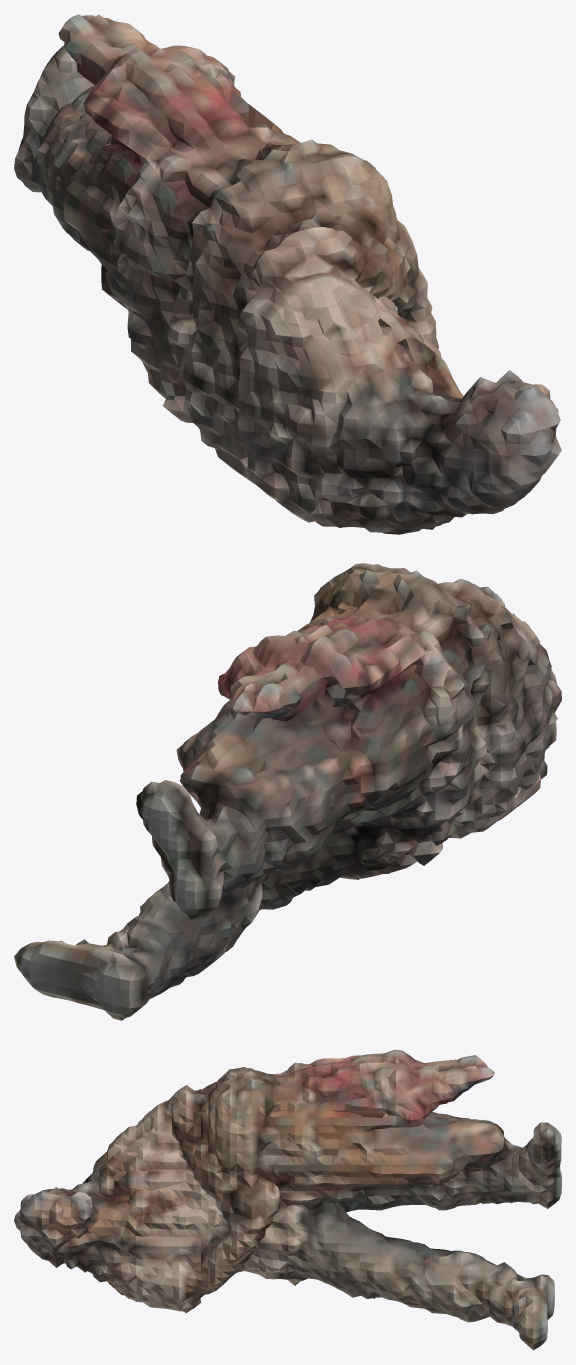
The picture shows the model from 3 angles, top to bottom: view 1: azimuth 30°, elevation 25°; view 2: azimuth 150°, elevation 25°; view 3: azimuth 270°, elevation 25°; orthographic projection. The views are drawn at different scales.
Visible parts, largest first — view 1: world; view 2: world; view 3: world.
Boxes of the visible parts, bbox=[...] form: world: bbox=[14, 14, 561, 534]; world: bbox=[14, 563, 561, 1020]; world: bbox=[14, 1049, 561, 1350].
Size of the model in its own units: 0.4564 by 0.4986 by 1.04.
